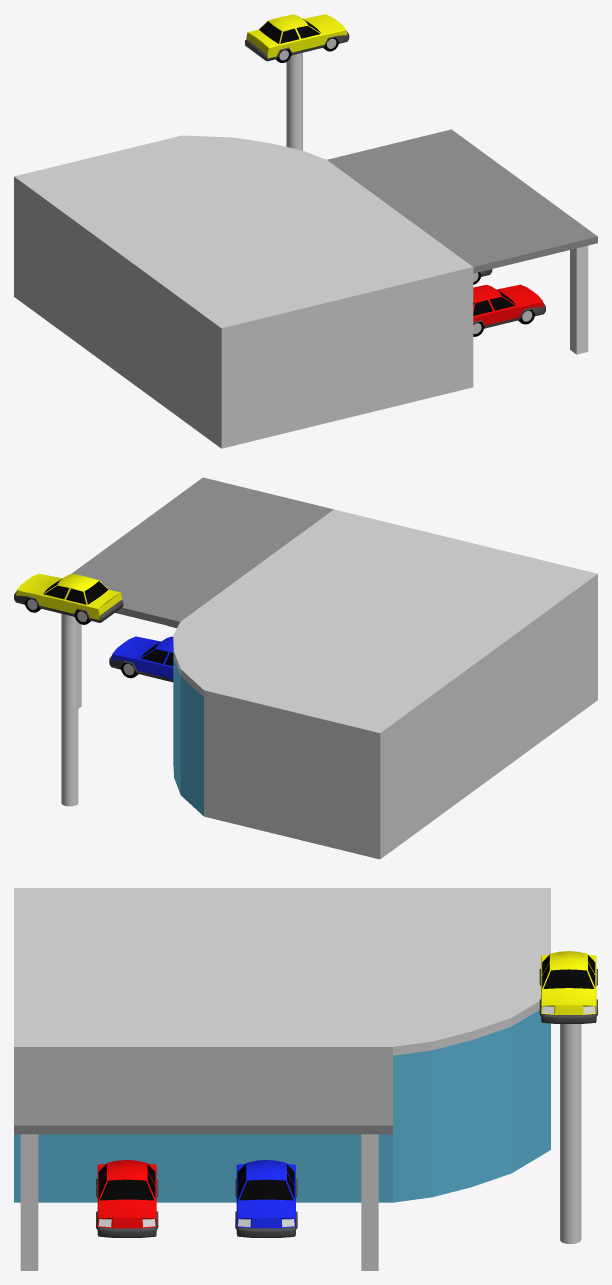
Rendered from carshop_model.fbx.
3 views of the same model, one above another, from view 1: azimuth 30°, elevation 25°; view 2: azimuth 150°, elevation 25°; view 3: azimuth 270°, elevation 25° (orthographic). The views are drawn at different scales.
Parts seen in each view (by area): view 1: 立方体; view 2: 立方体; view 3: 立方体.
Part boxes in pixels (x1=…): 立方体: x1=14, y1=14, x2=597, y2=448; 立方体: x1=14, y1=477, x2=597, y2=859; 立方体: x1=14, y1=888, x2=597, y2=1270.
Size of the model in its own units: 355 by 192 by 369.
